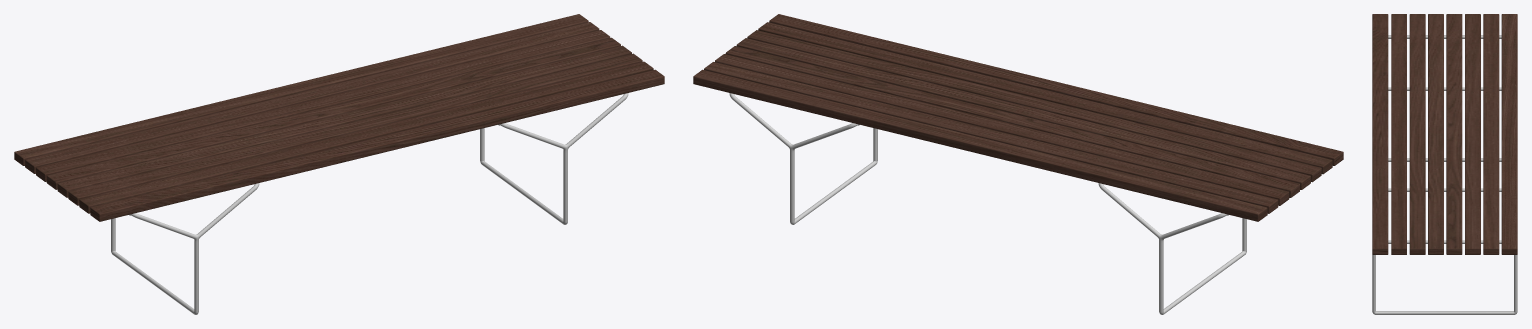
File: bench.glb
The picture shows the model from 3 angles, left to right: view 1: azimuth 30°, elevation 25°; view 2: azimuth 150°, elevation 25°; view 3: azimuth 270°, elevation 25°; orthographic projection. The views are drawn at different scales.
Visible parts, largest first — view 1: Bertoia bench; view 2: Bertoia bench; view 3: Bertoia bench.
Part boxes in pixels (box(x1,y1,x2,y2)): Bertoia bench: box(14, 14, 664, 314); Bertoia bench: box(693, 14, 1343, 314); Bertoia bench: box(1372, 14, 1517, 314).
Bounding box in the file's own units: 1.83 × 0.39 × 0.48.
2 materials, 1 textured.
